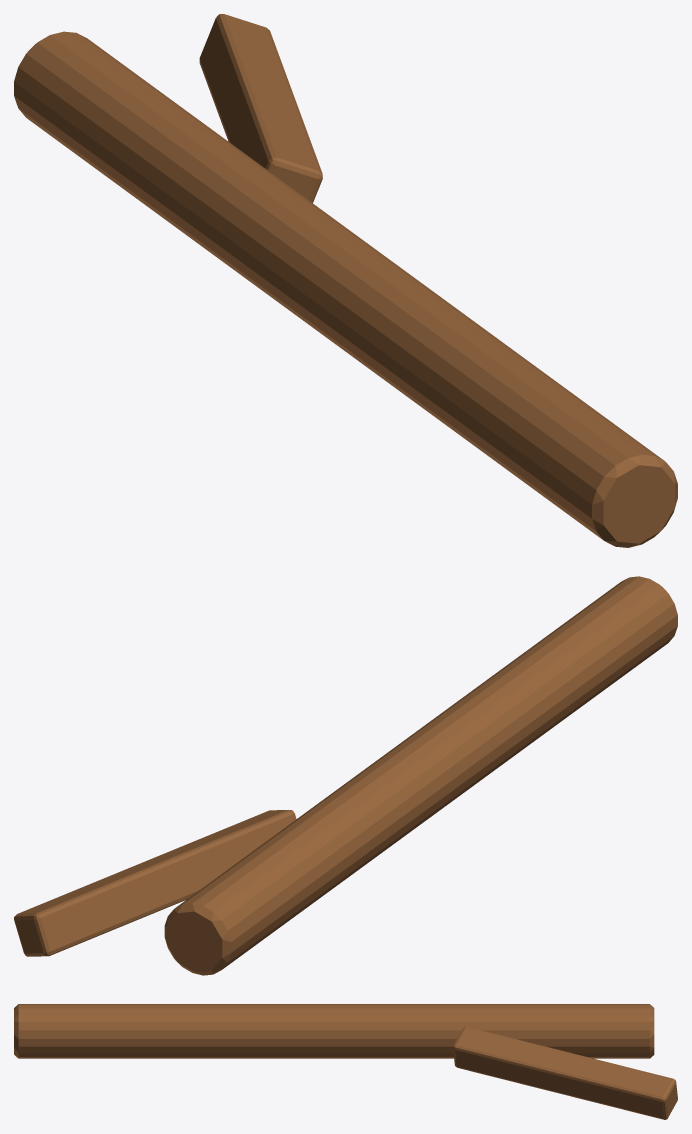
File: AuxiliaBrokenBolt.fbx
3 views of the same model, one above another, from view 1: azimuth 30°, elevation 25°; view 2: azimuth 150°, elevation 25°; view 3: azimuth 270°, elevation 25° (orthographic). The views are drawn at different scales.
Visible parts, largest first — view 1: AuxiliaBrokenBolt_GameExport; view 2: AuxiliaBrokenBolt_GameExport; view 3: AuxiliaBrokenBolt_GameExport.
Boxes of the visible parts, x1,y1,x2,y2 form: AuxiliaBrokenBolt_GameExport: (14,14,677,547); AuxiliaBrokenBolt_GameExport: (14,576,677,975); AuxiliaBrokenBolt_GameExport: (14,1004,677,1119).
Bounding box in the file's own units: 4.74 × 18.66 × 1.8.
